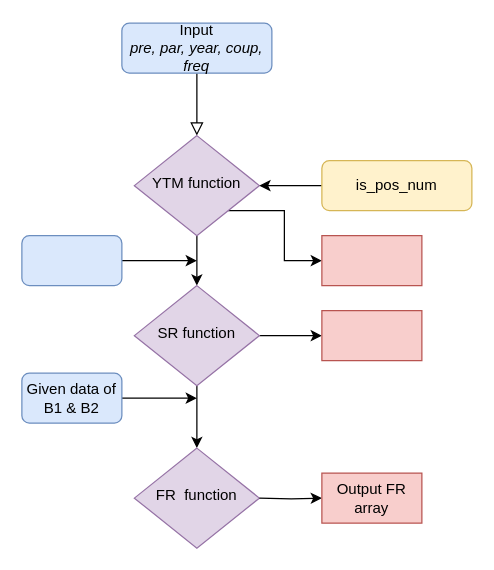
This 494x570 diagram has some shape labels left out. The shapes that lost their labels are listed below. From the top down, each one's centre as x and y in pixels, then its label:
At pixel 71 260: "Given price of B1 & B2".
At pixel 371 260: "Output ytm".
At pixel 371 335: "Output SR".
